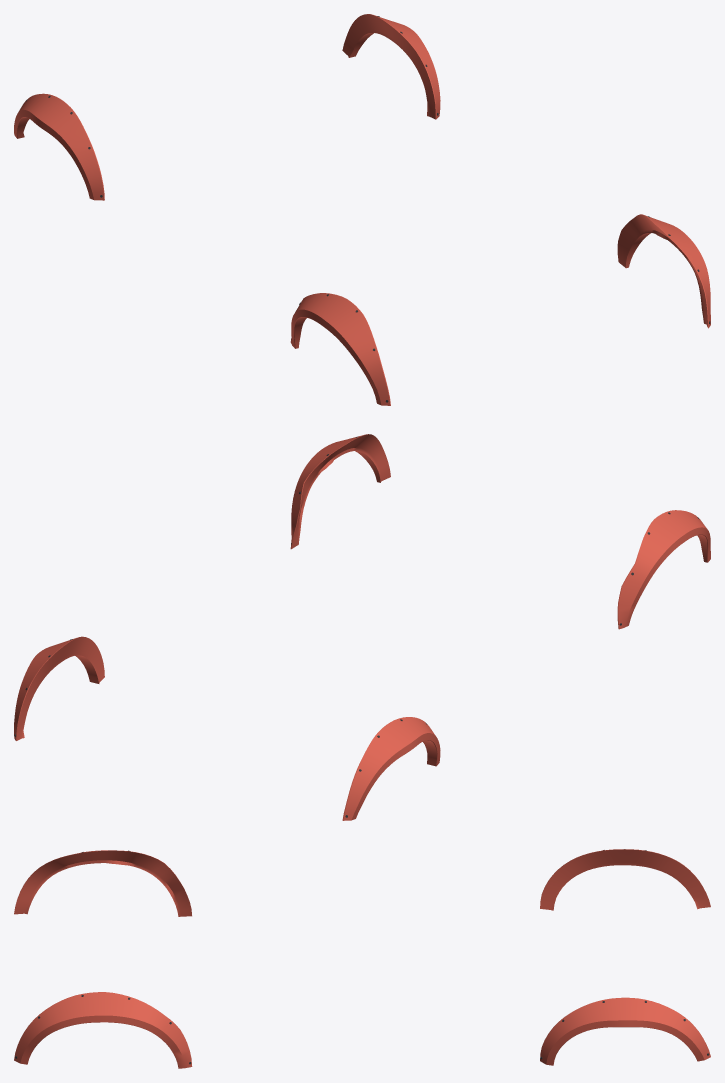
Rendered from nakayaGrove_fenders_overWild.glb.
The picture shows the model from 3 angles, top to bottom: view 1: azimuth 30°, elevation 25°; view 2: azimuth 150°, elevation 25°; view 3: azimuth 270°, elevation 25°; orthographic projection. The views are drawn at different scales.
Visible parts, largest first — view 1: fenders_overWild; view 2: fenders_overWild; view 3: fenders_overWild.
Part boxes in pixels (<box>): fenders_overWild: <box>14,14,710,405</box>; fenders_overWild: <box>14,434,710,820</box>; fenders_overWild: <box>14,849,710,1068</box>.
Bounding box in the file's own units: 1.92 × 0.3693 × 3.3.
